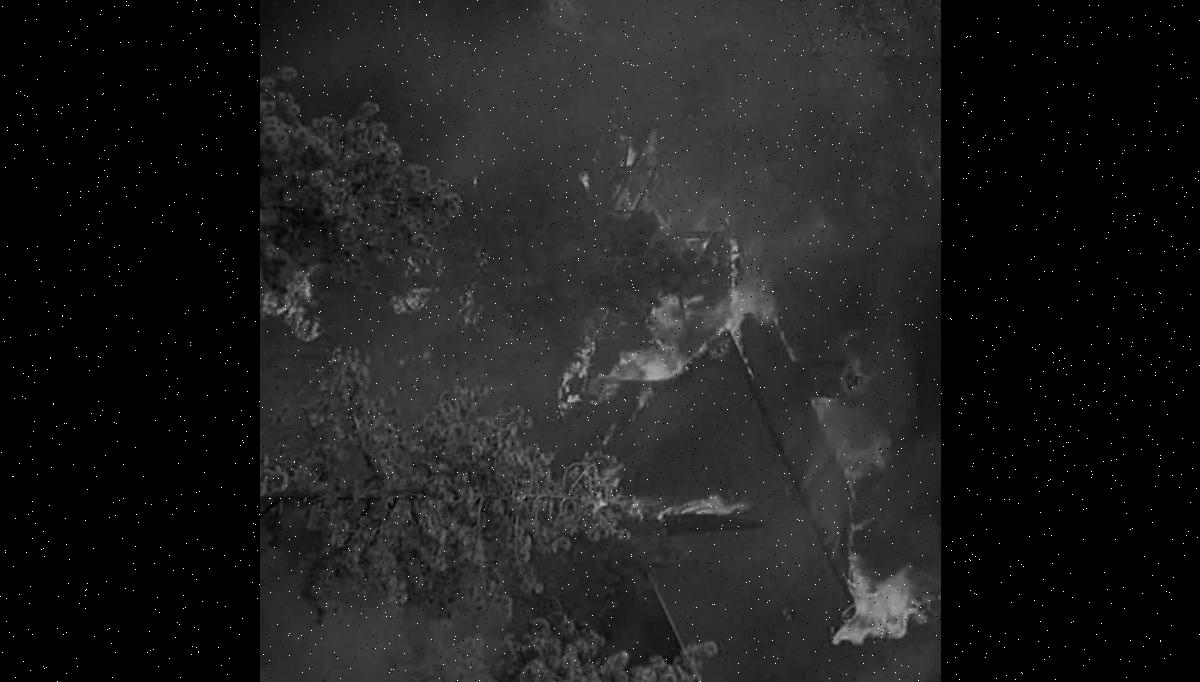fire: (538, 240, 774, 540), (259, 229, 460, 356), (822, 521, 939, 657)
